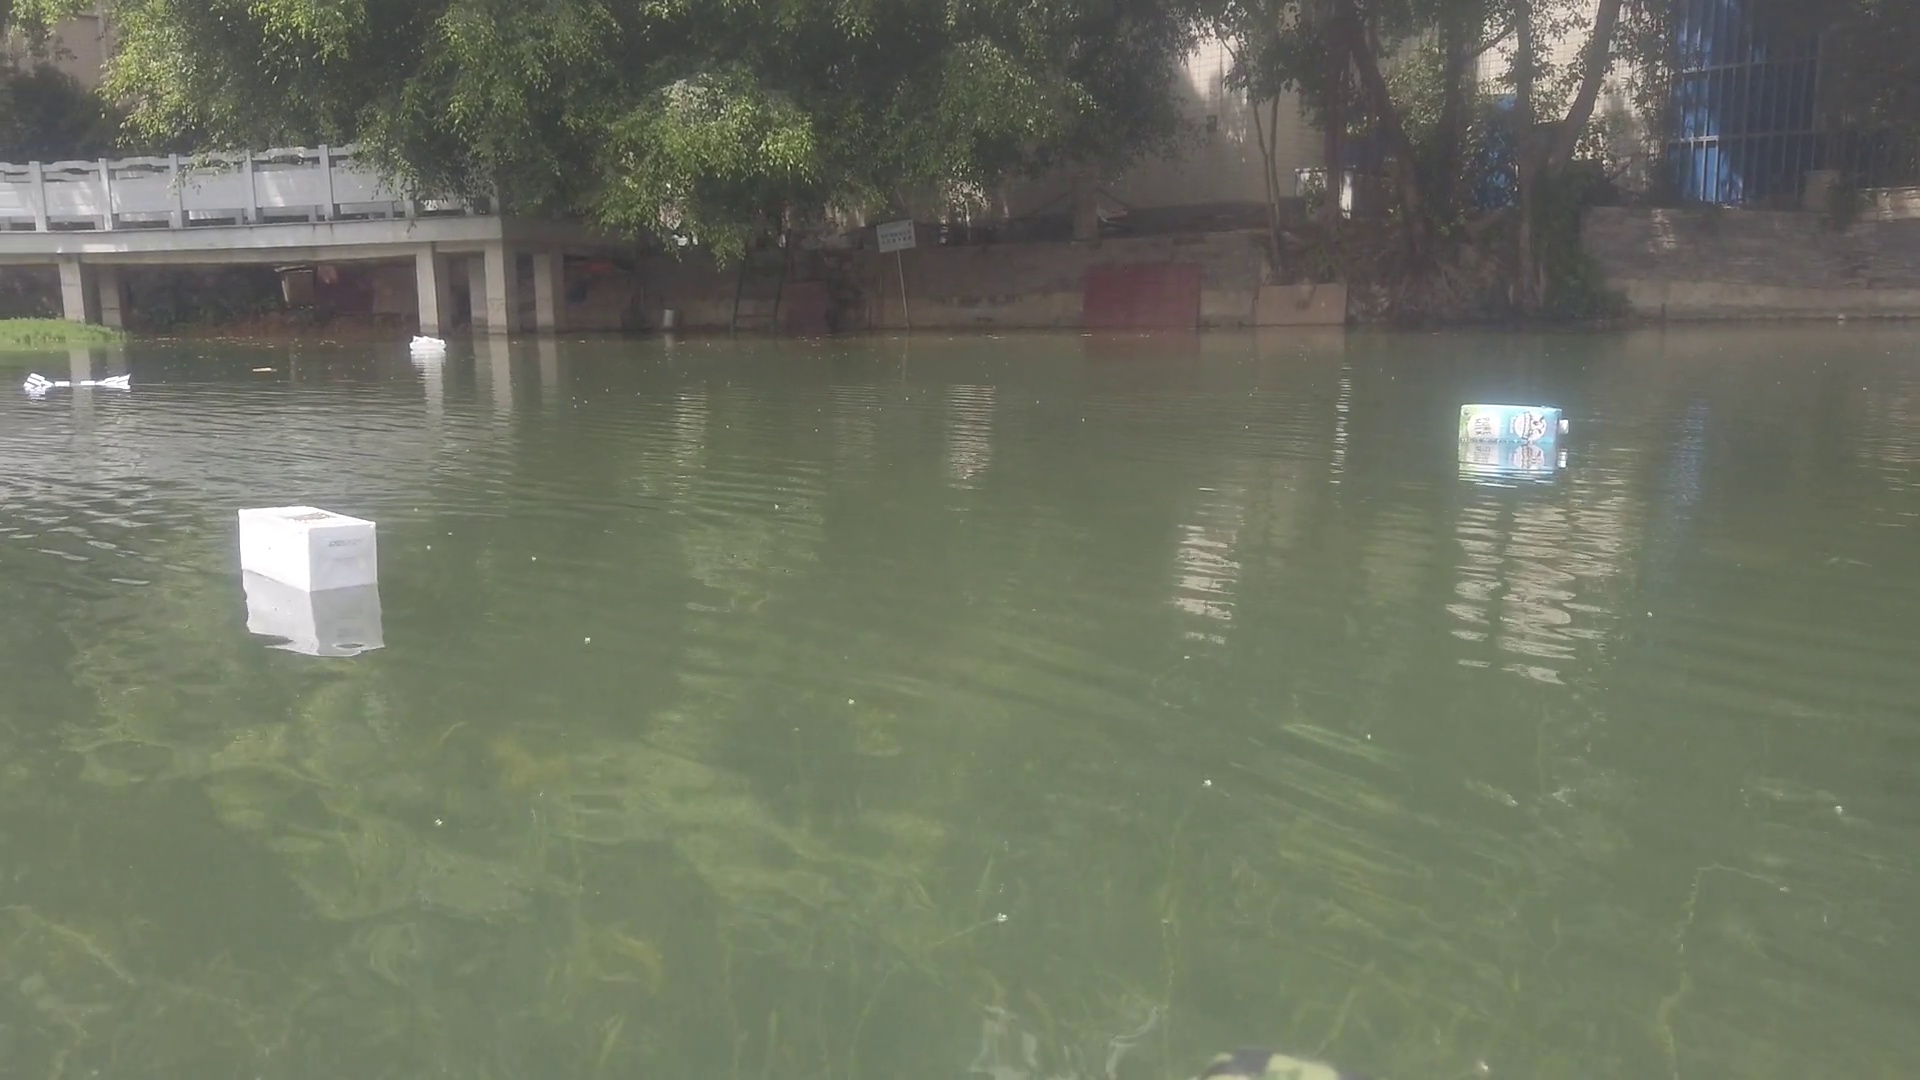carton: (233, 502, 381, 593), (1458, 404, 1571, 444)
paper: (22, 369, 136, 393), (251, 363, 278, 375)
plastic: (409, 334, 447, 353)
